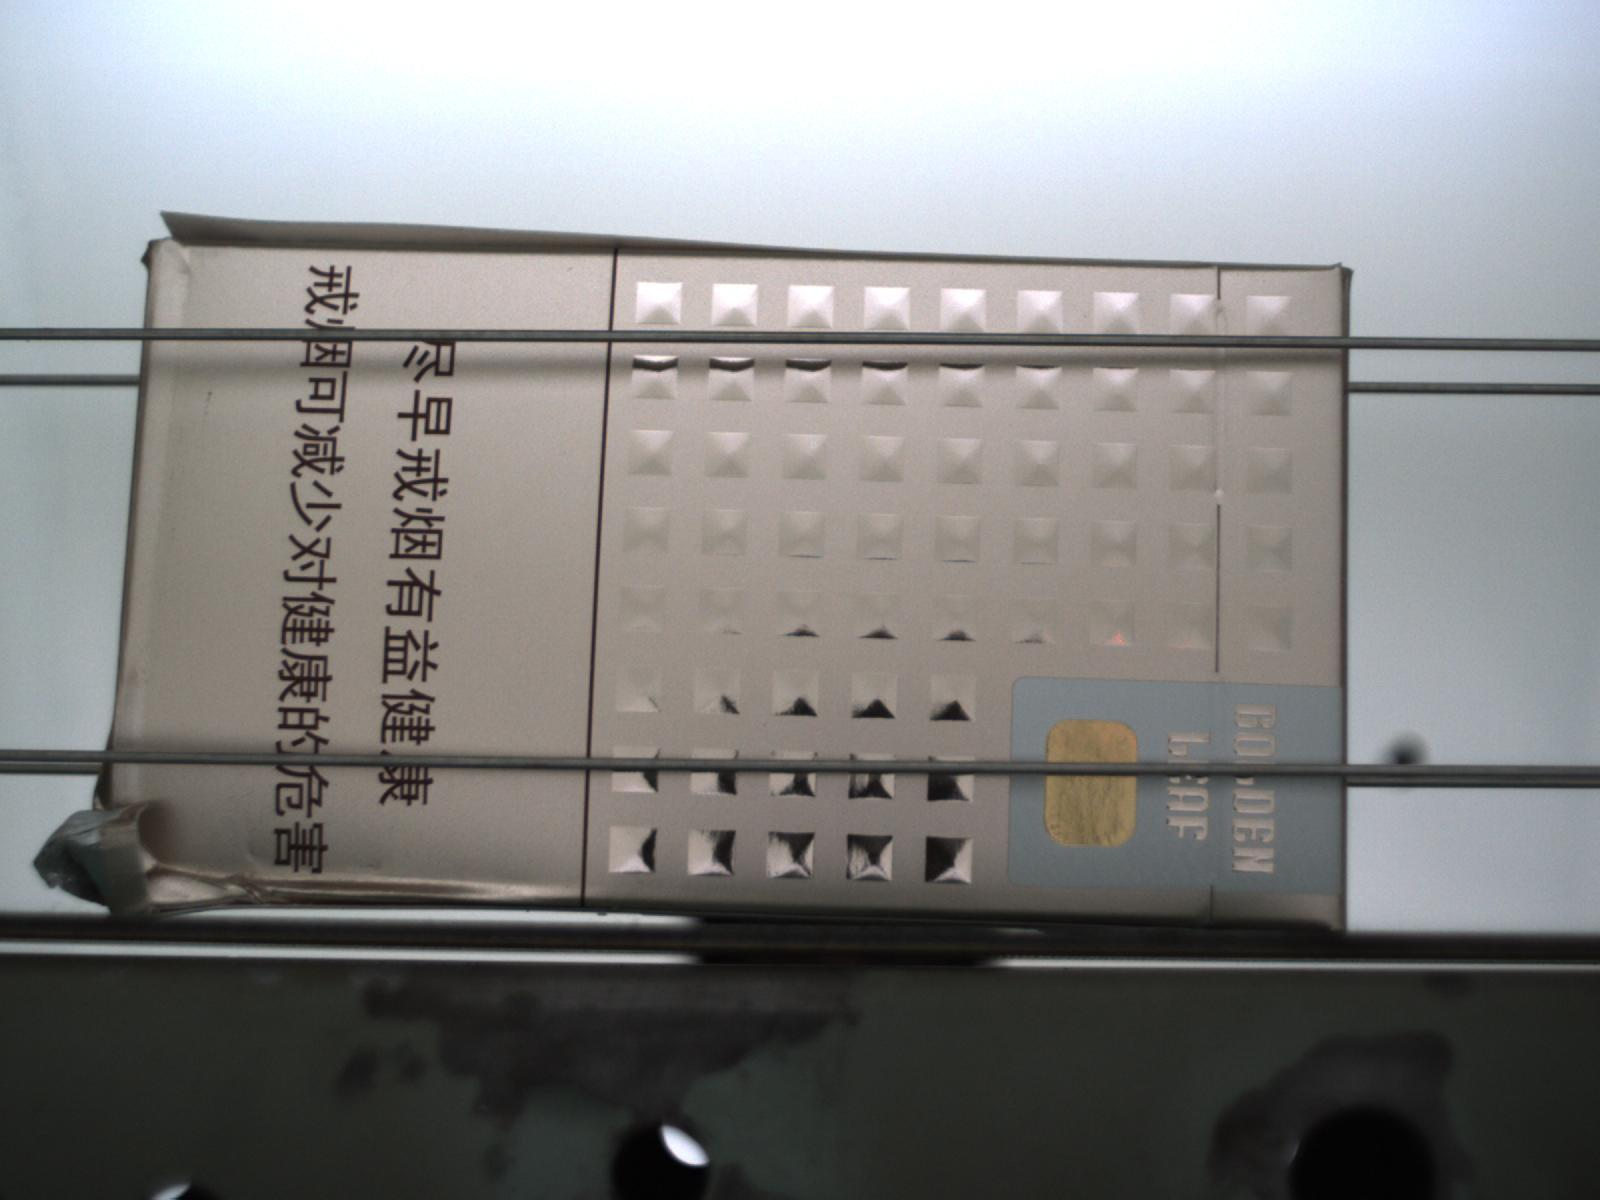bottomUpwarp_upper_3: (139, 355, 185, 751)
dirtyScratch: (28, 800, 610, 920)
outerFold_upper_01: (149, 214, 891, 258)
